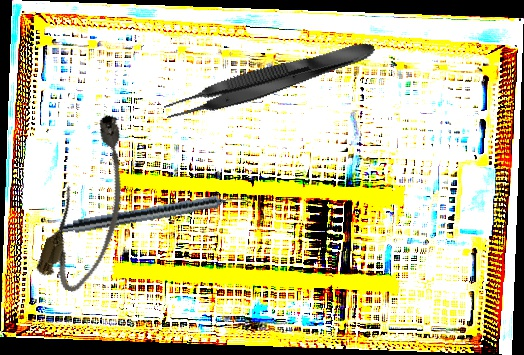Cannula: (32, 108, 152, 299)
Handpiece: (58, 188, 253, 240)
Tissue Forceps: (161, 33, 379, 128)
